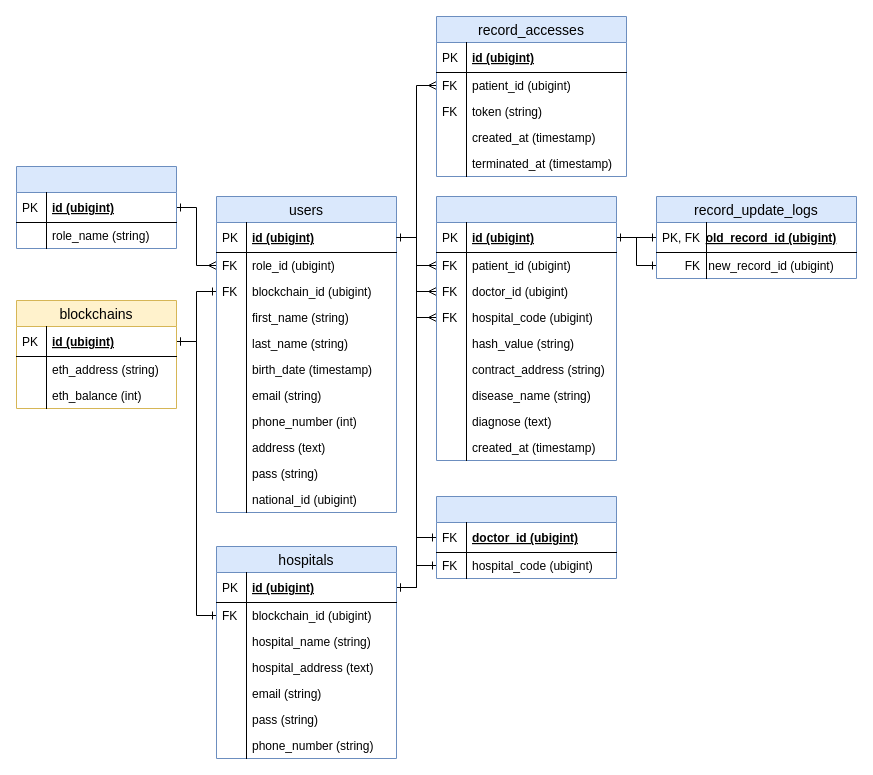
Some shapes in this 873 by 775 pixel diagram are drawn without their labels. Here are the shapes that lost their labels. From the top down, the box of each, then its label:
(16, 166, 176, 248): user_roles
(436, 196, 616, 460): records
(436, 496, 616, 578): doctors_hospitals
